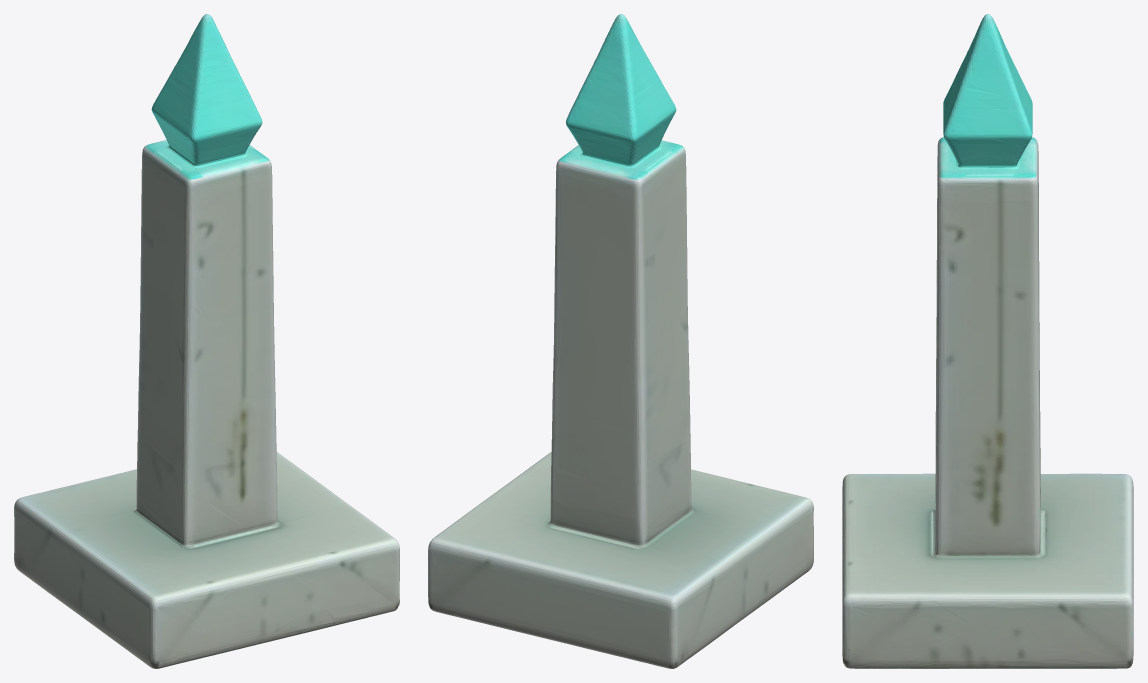
The model's file is teleport_waypoint_statue.glb.
3 renders of one model, left to right at view 1: azimuth 30°, elevation 25°; view 2: azimuth 150°, elevation 25°; view 3: azimuth 270°, elevation 25°, orthographic. The views are drawn at different scales.
Visible parts, largest first — view 1: tmpu330rbs8.ply; view 2: tmpu330rbs8.ply; view 3: tmpu330rbs8.ply.
Boxes of the visible parts, x1=… form: tmpu330rbs8.ply: x1=14, y1=14, x2=399, y2=668; tmpu330rbs8.ply: x1=428, y1=14, x2=813, y2=668; tmpu330rbs8.ply: x1=842, y1=14, x2=1133, y2=668.
Size of the model in its own units: 0.9021 by 1.99 by 0.885.
1 material, 1 textured.
